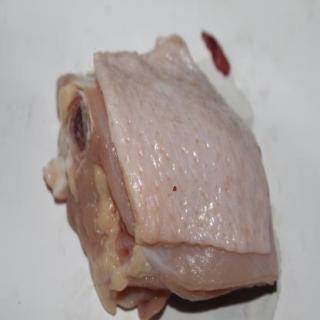Ayam: (43, 33, 280, 320)
